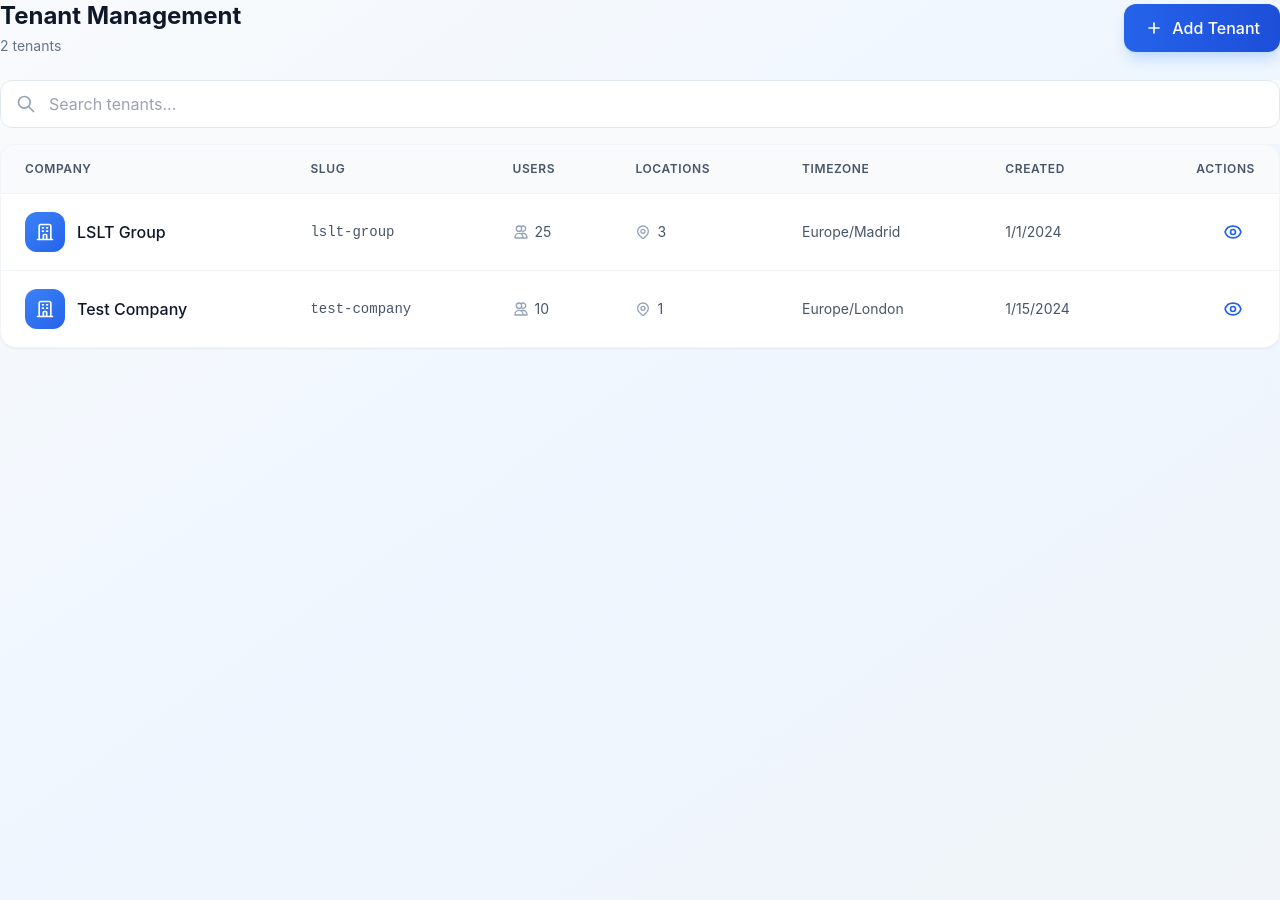
Test case: TenantManagementPage › Create Tenant › opens create form when add button clicked
This screenshot has width=1280, height=900.
Click the button "Add Tenant": coordinates (1202, 28) [1124,4,1279,52]
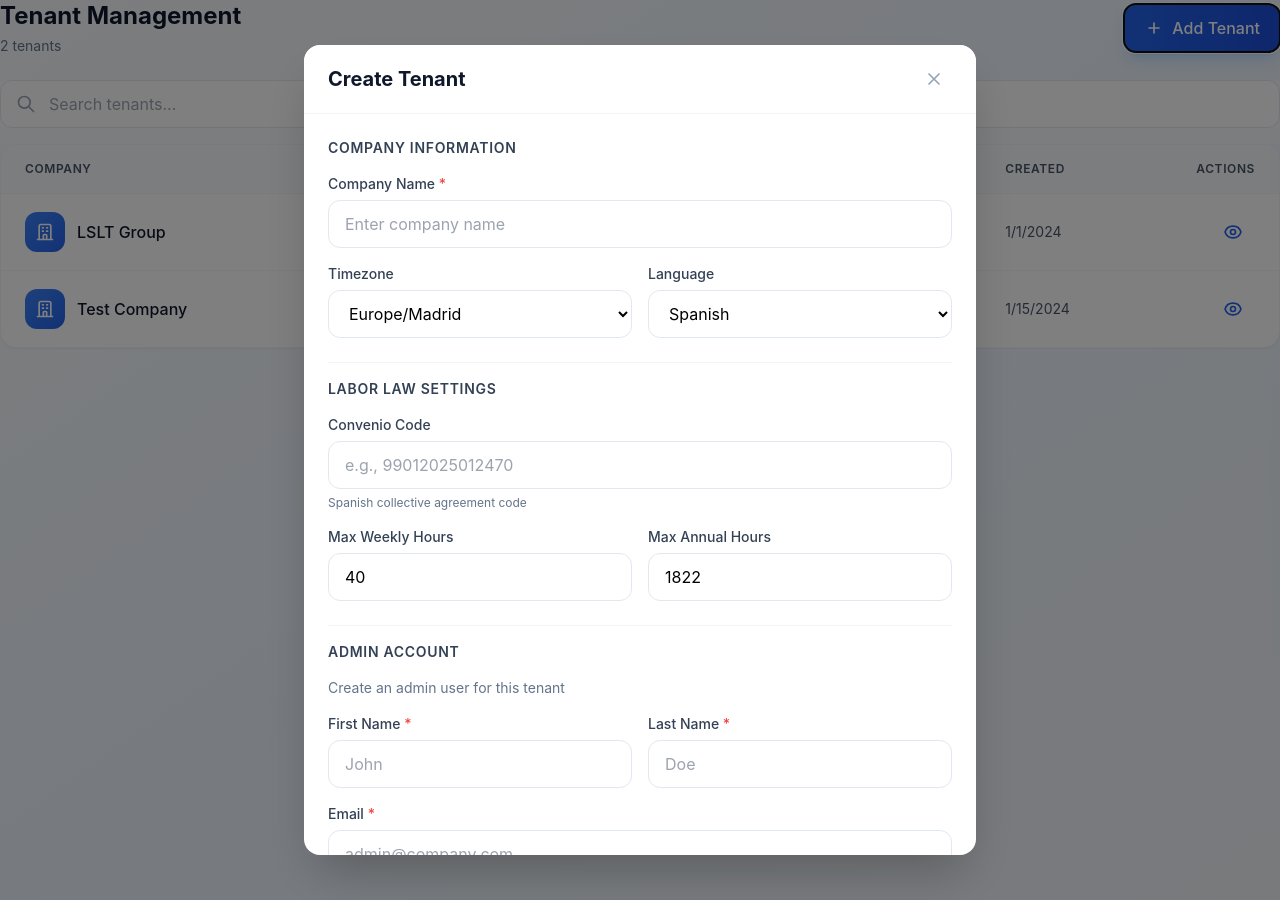
Expected: the dialog is shown, [304,45,976,855]
Expected: the heading "Create Tenant" is shown, [328,65,466,93]
